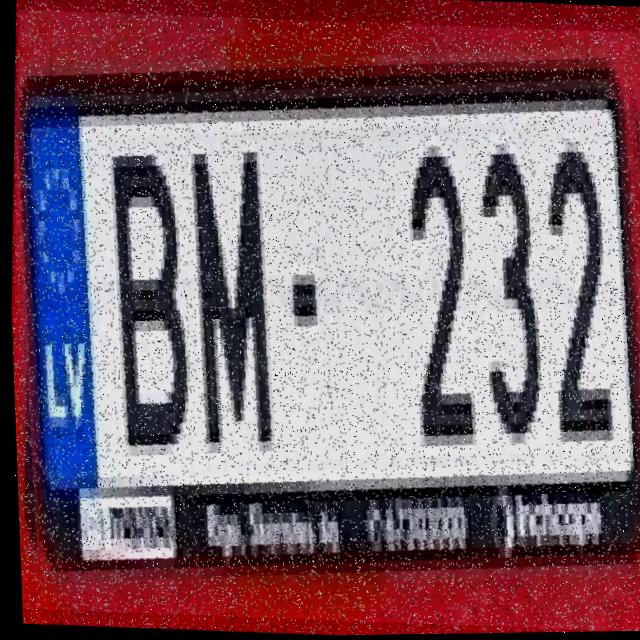LicensePlate: (0, 2, 640, 640)
